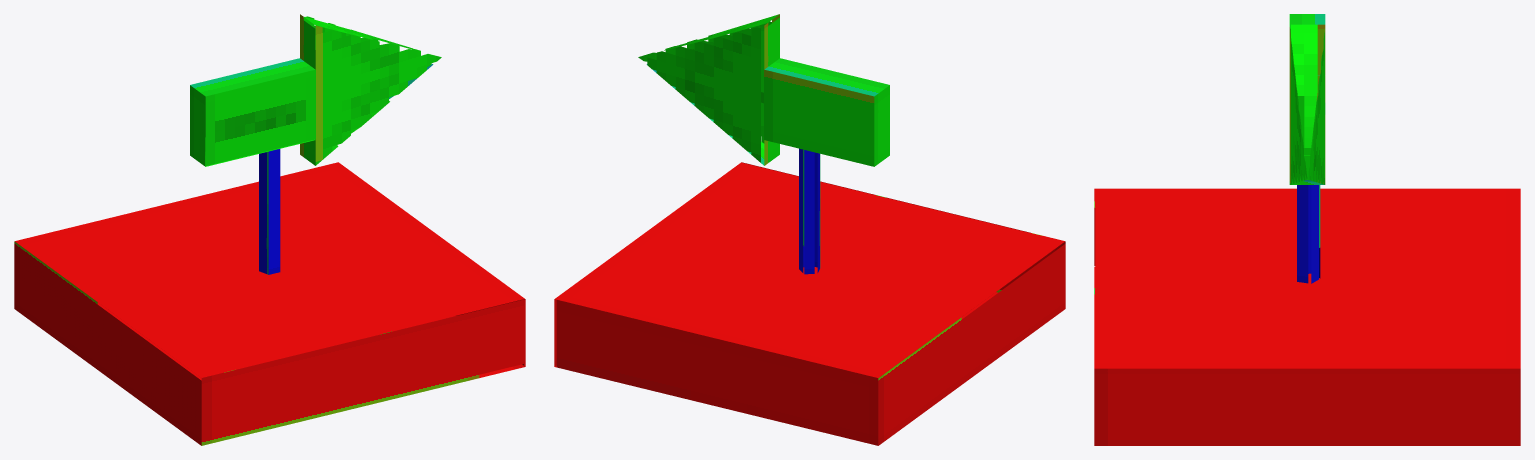
Rendered from facing_block_obj.obj.
3 renders of one model, left to right at view 1: azimuth 30°, elevation 25°; view 2: azimuth 150°, elevation 25°; view 3: azimuth 270°, elevation 25°, orthographic. The views are drawn at different scales.
Parts seen in each view (by area): view 1: Cube.001, 立方体_立方体.001, 円柱; view 2: Cube.001, 立方体_立方体.001, 円柱; view 3: Cube.001, 立方体_立方体.001, 円柱.
Boxes of the visible parts, x1,y1,x2,y2 form: Cube.001: [14, 162, 525, 445]; 立方体_立方体.001: [190, 14, 441, 166]; 円柱: [259, 149, 280, 274]; Cube.001: [554, 162, 1065, 445]; 立方体_立方体.001: [638, 14, 889, 166]; 円柱: [799, 148, 820, 274]; Cube.001: [1094, 188, 1520, 445]; 立方体_立方体.001: [1289, 14, 1325, 184]; 円柱: [1297, 185, 1320, 283].
Bounding box in the file's own units: 1.03 × 0.9115 × 1.
